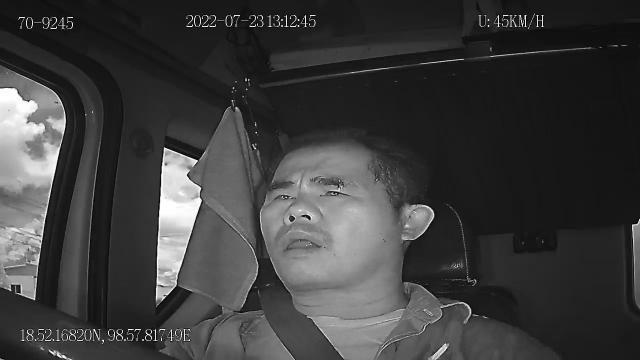SafeDriving: (311, 179, 353, 203), (266, 182, 300, 206)
Seatbelt: (256, 284, 346, 360)
